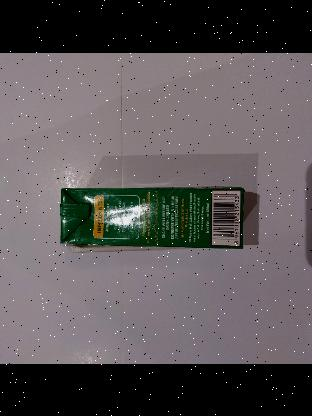Others: (58, 184, 246, 250)
